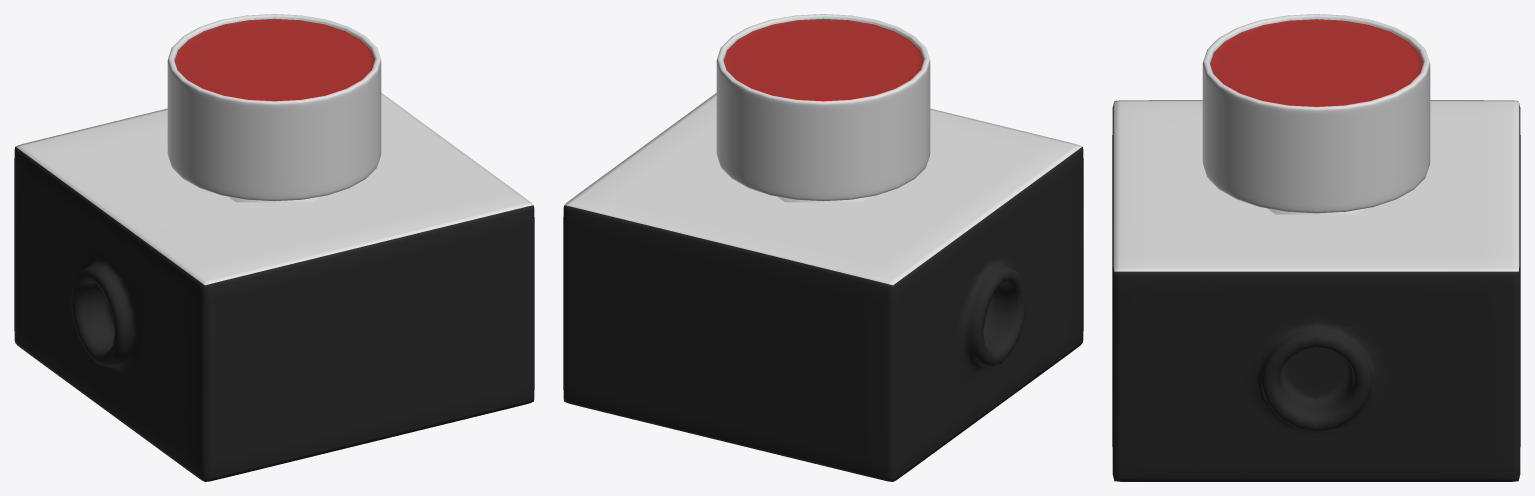
The model's file is boutton-poussoir.fbx.
The picture shows the model from 3 angles, left to right: view 1: azimuth 30°, elevation 25°; view 2: azimuth 150°, elevation 25°; view 3: azimuth 270°, elevation 25°; orthographic projection. The views are drawn at different scales.
Parts seen in each view (by area): view 1: body, head; view 2: body, head; view 3: body, head.
Part boxes in pixels (x1,y1,x2,y2): body: [14, 93, 534, 481]; head: [167, 14, 381, 201]; body: [563, 93, 1083, 481]; head: [716, 14, 930, 201]; body: [1112, 100, 1520, 481]; head: [1202, 14, 1430, 213].
Bounding box in the file's own units: 0.0583 × 0.0488 × 0.0537.
